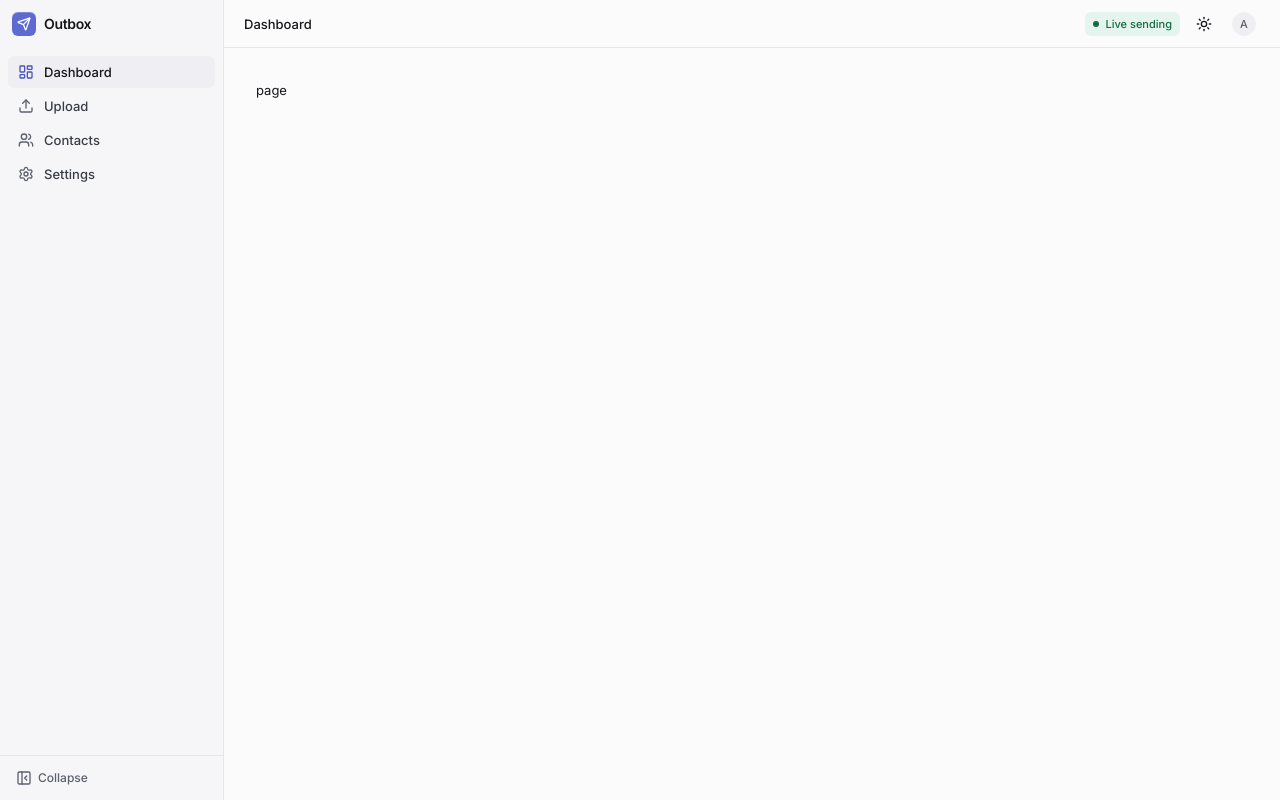
Test: AppShell navigation › shows who is signed in in the account menu
Click the button named "Account menu" at (1244, 24), box x1=1228 y1=8 x2=1260 y2=40
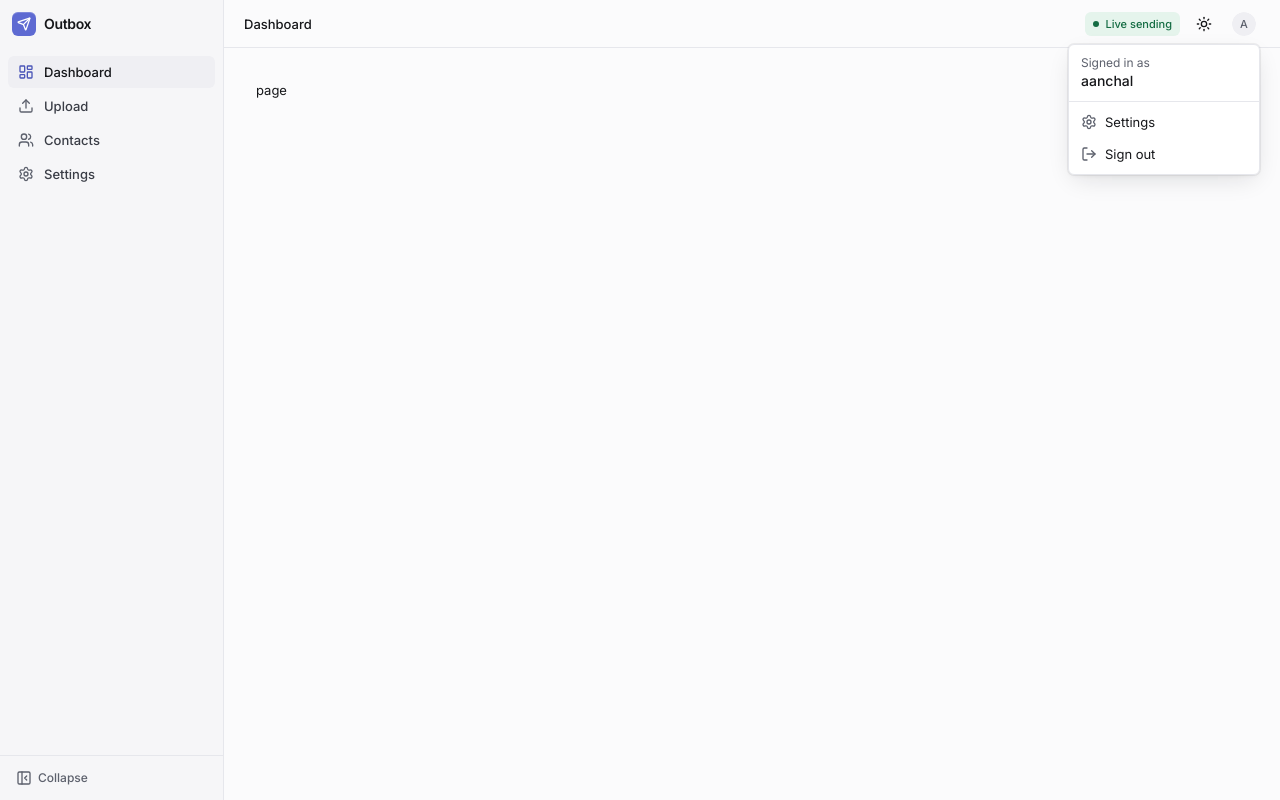
Now the text "aanchal" is shown, box x1=1081 y1=72 x2=1133 y2=89
